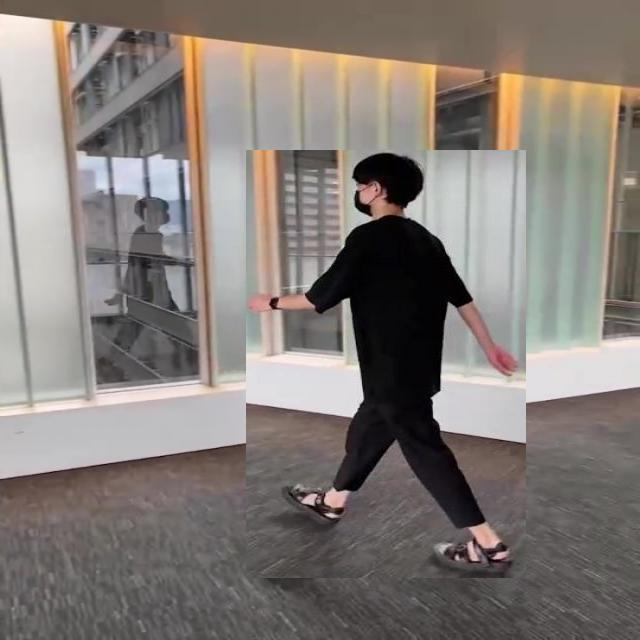direk: (246, 150, 526, 578)
